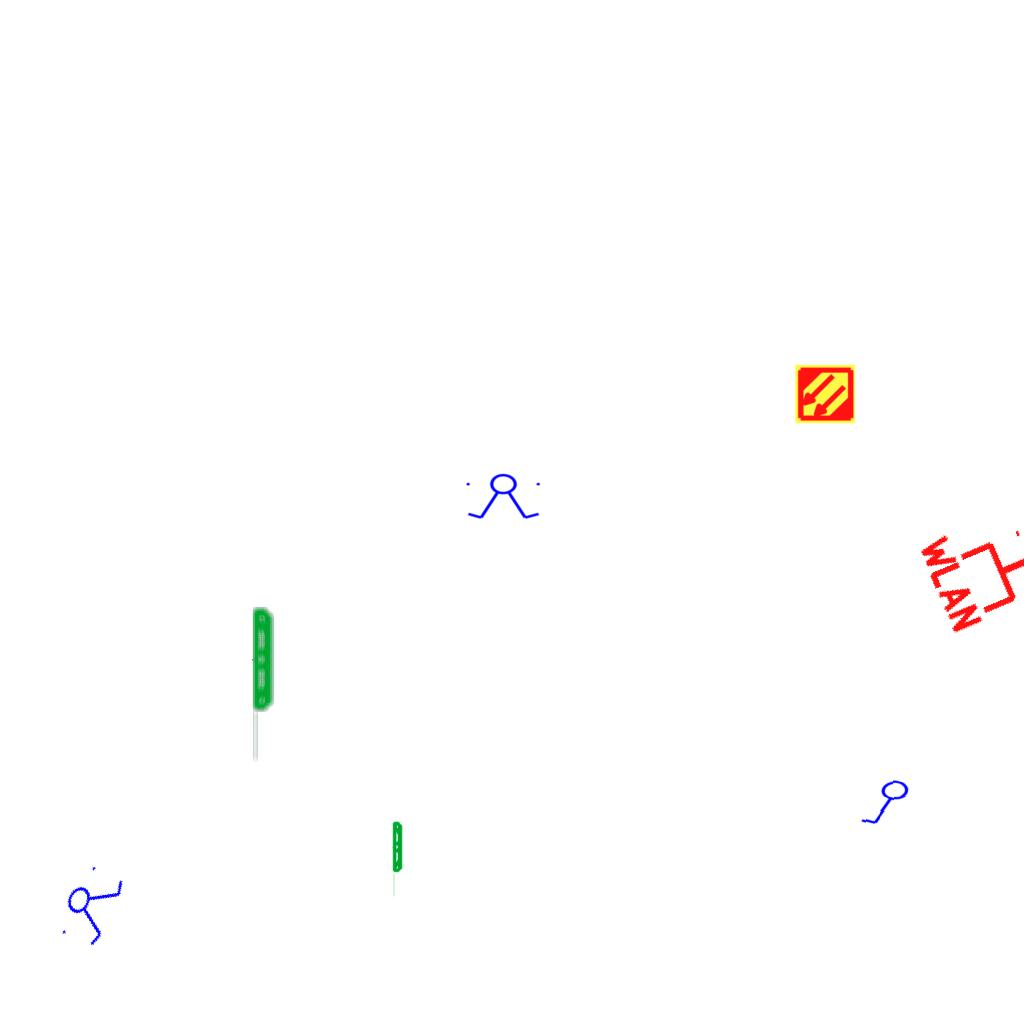ASR_Ansaugrauchmelder: (794, 363, 856, 425)
Ausschalter: (857, 778, 917, 830)
Serienschalter: (51, 856, 131, 954), (462, 473, 546, 521)
Sicherheitsleuchte_Wandeinbau: (251, 605, 276, 764), (392, 820, 404, 899)
WLAN: (913, 501, 1024, 639)
